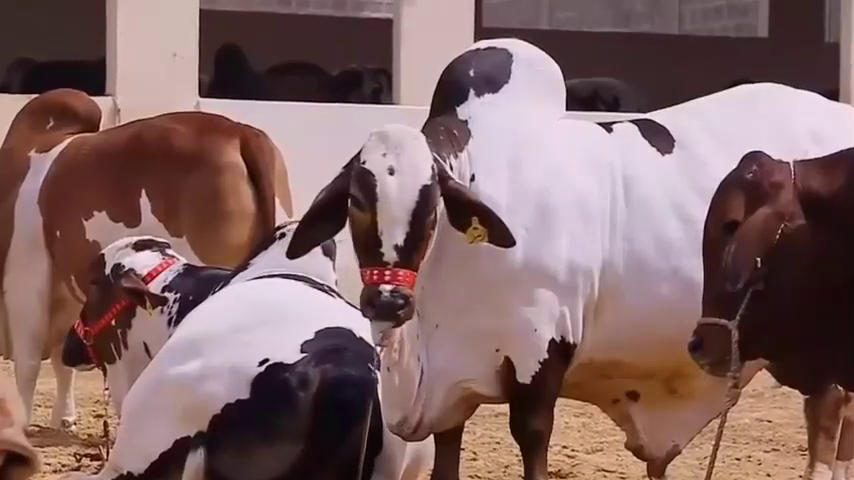bo: (292, 40, 854, 479), (41, 222, 457, 480), (3, 81, 297, 443), (683, 138, 854, 479)
